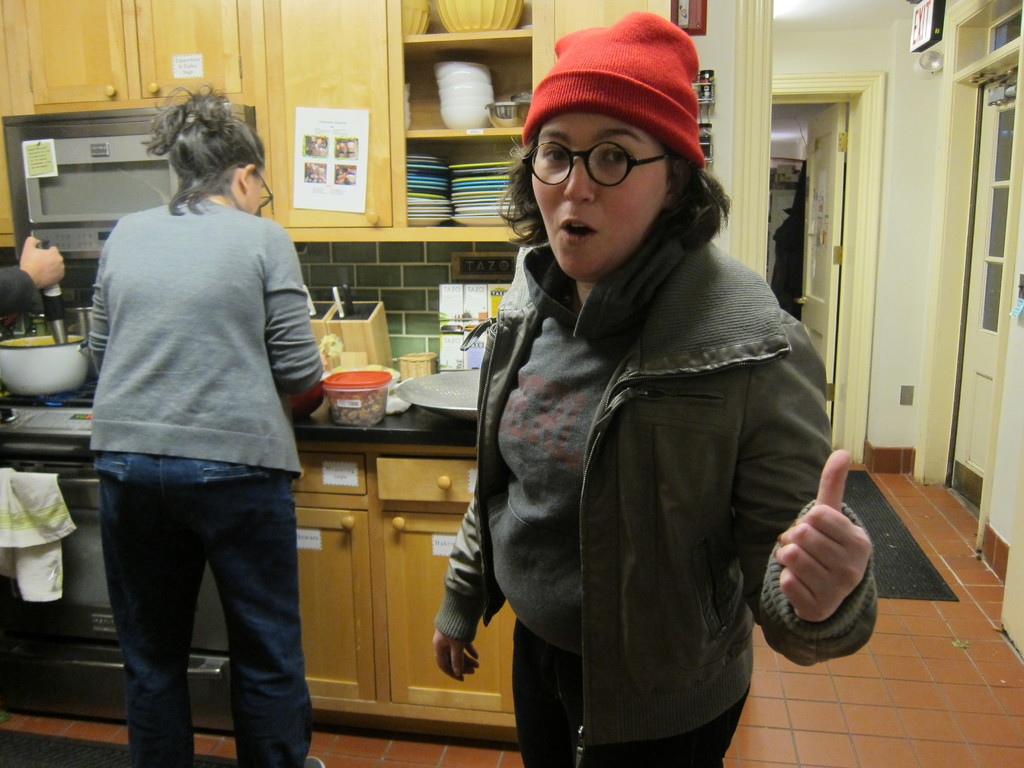Footwear: (302, 757, 324, 767)
